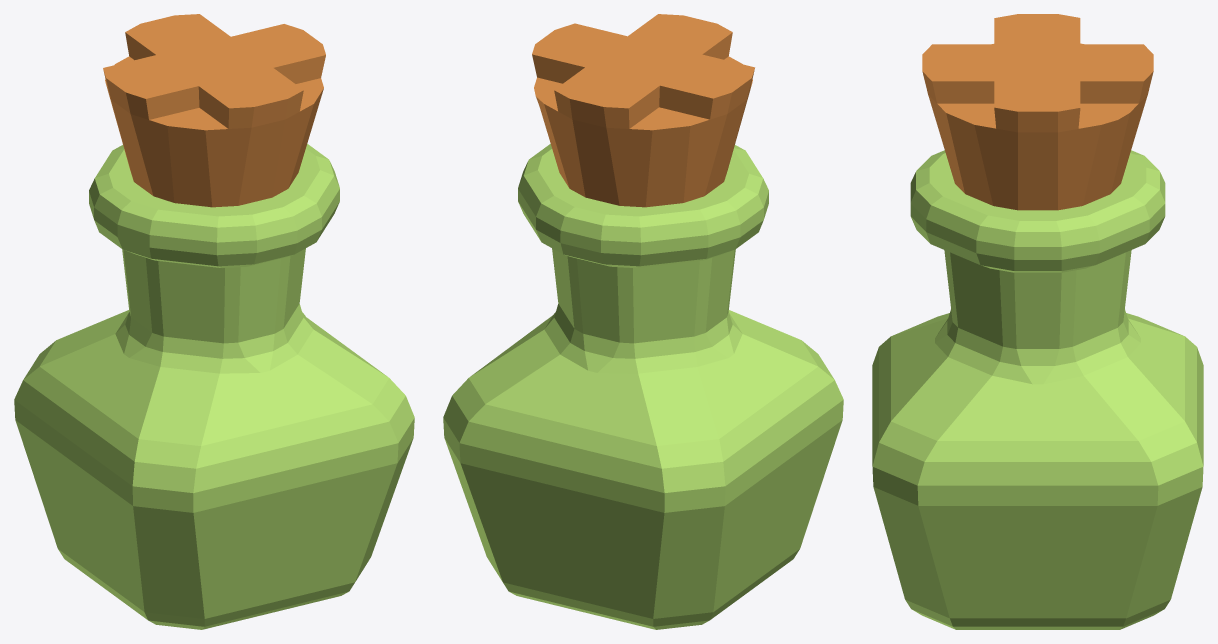
Rendered from ActionBox.fbx.
3 views of the same model, side by side, from view 1: azimuth 30°, elevation 25°; view 2: azimuth 150°, elevation 25°; view 3: azimuth 270°, elevation 25° (orthographic).
Parts seen in each view (by area): view 1: life box; view 2: life box; view 3: life box.
Part boxes in pixels (x1,y1,x2,y2): life box: [14, 14, 414, 629]; life box: [443, 14, 843, 629]; life box: [872, 14, 1203, 629].
Size of the model in its own units: 191 by 331 by 191.
